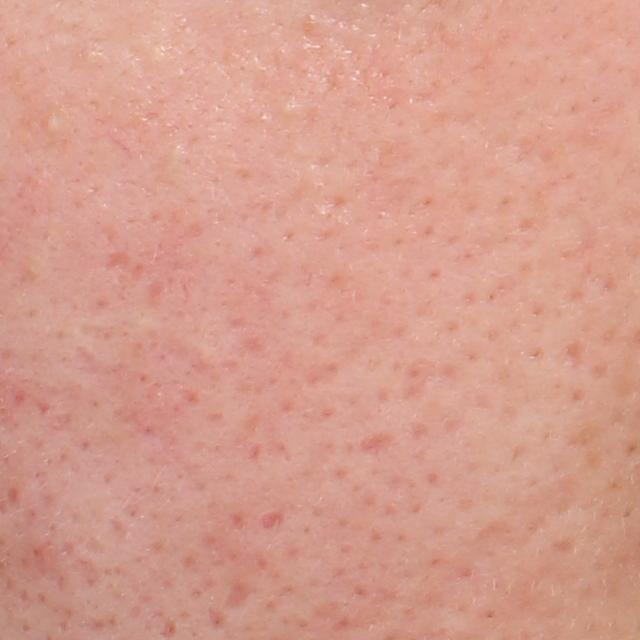atrophic_scar: (218, 573, 259, 611), (358, 429, 398, 457), (99, 248, 133, 277), (257, 510, 285, 529)
